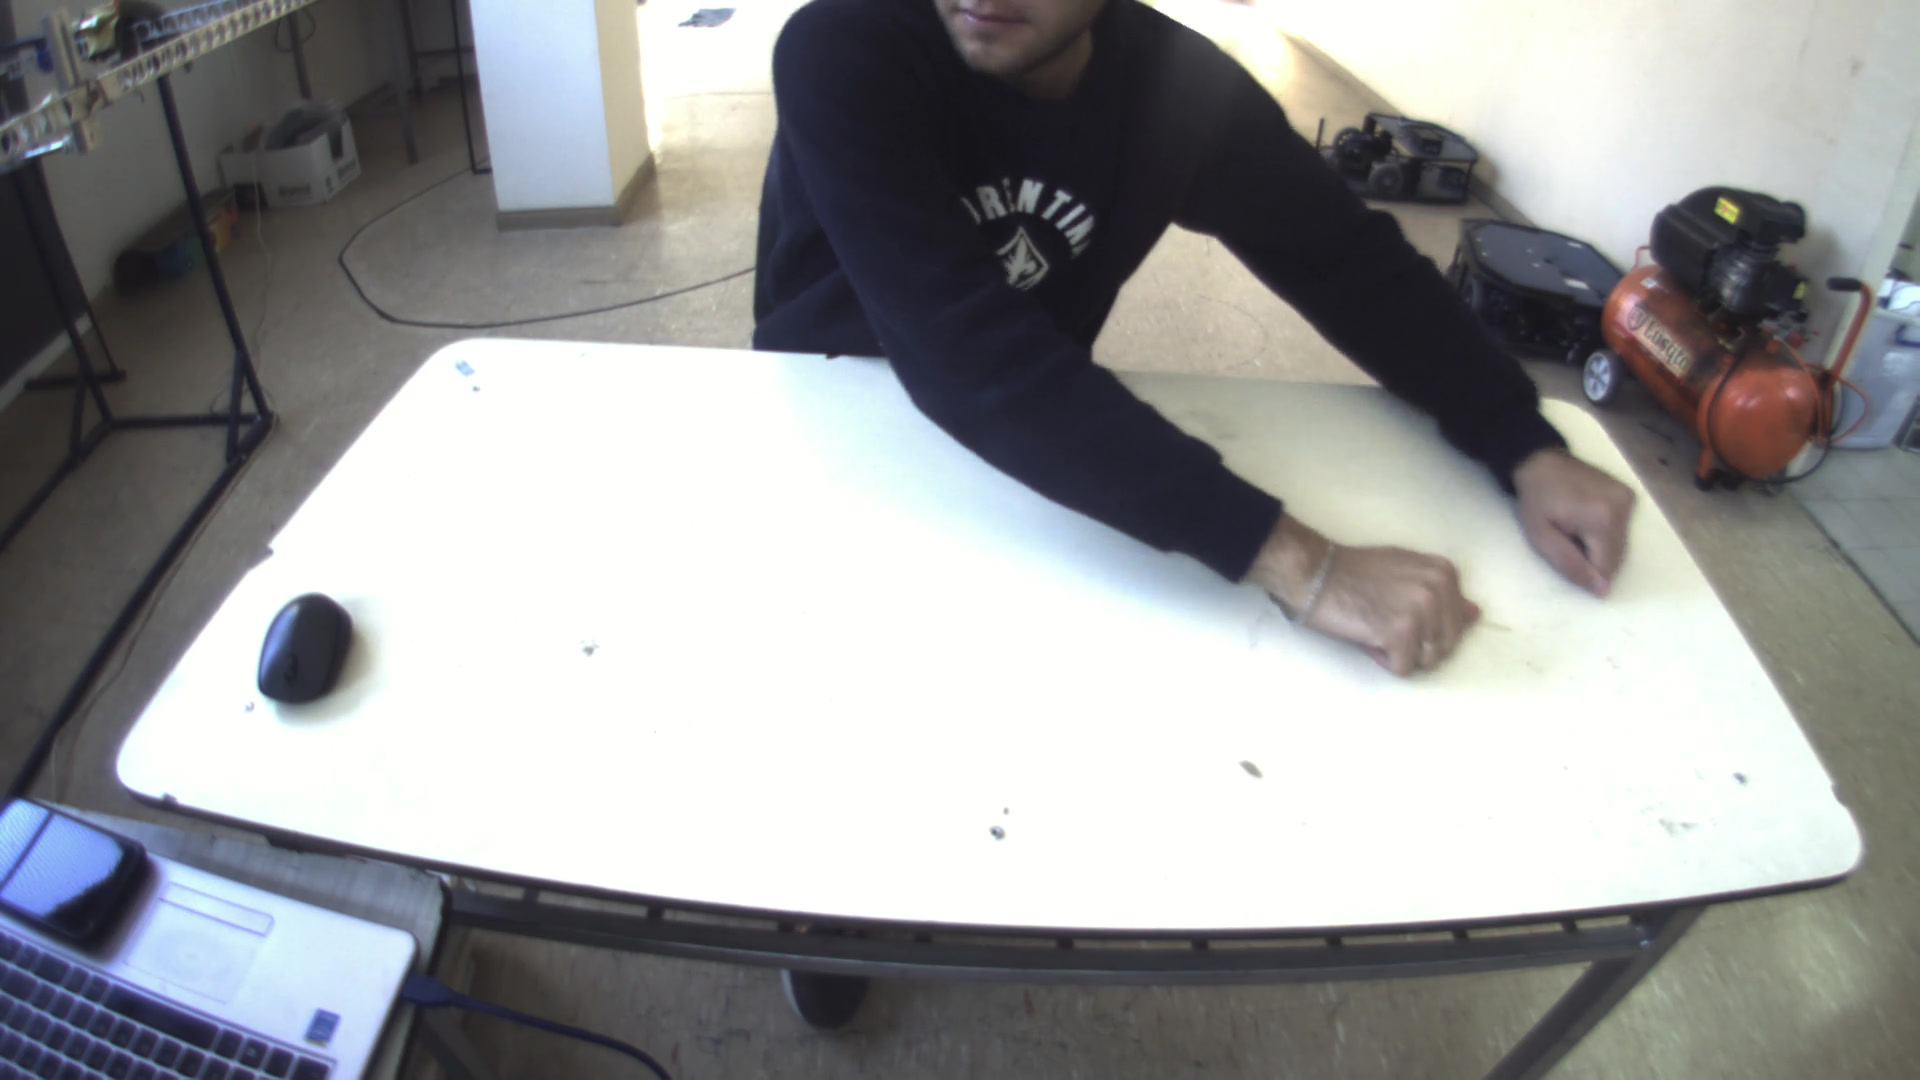hand: (1273, 520, 1495, 680), (1513, 444, 1651, 597)
